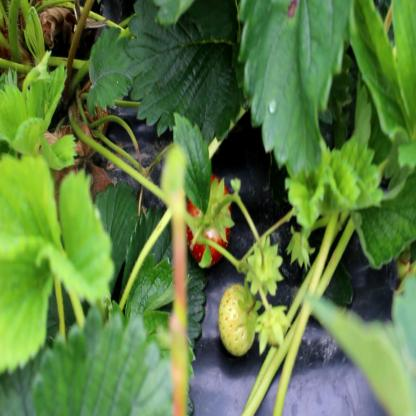ripe: (174, 162, 246, 286)
unripe: (214, 289, 258, 356)
